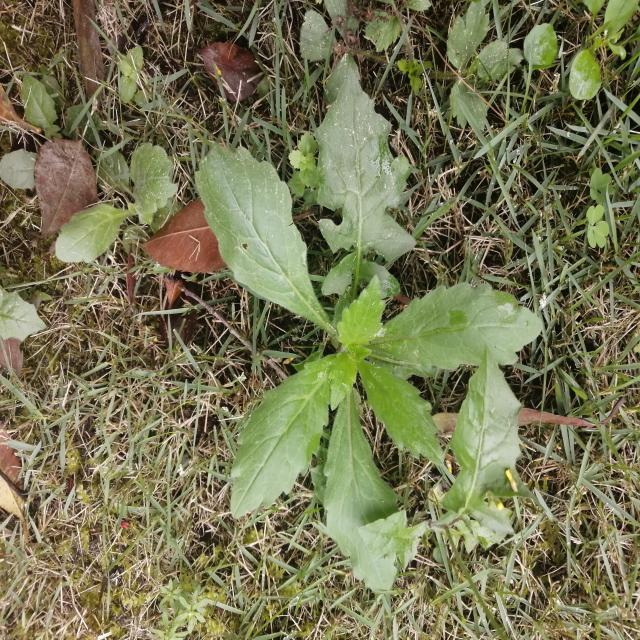horseweed: (228, 110, 502, 565)
